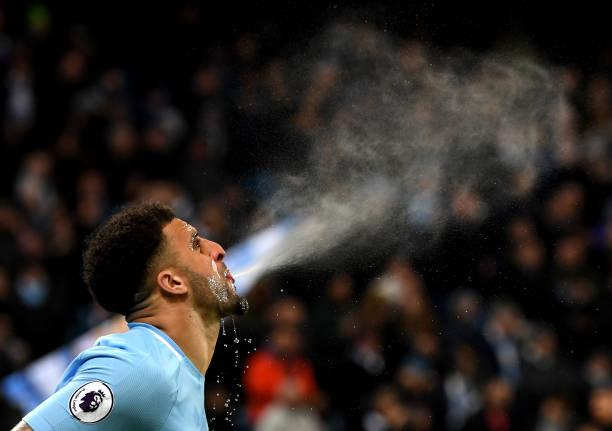Spitting: (44, 174, 334, 336)
